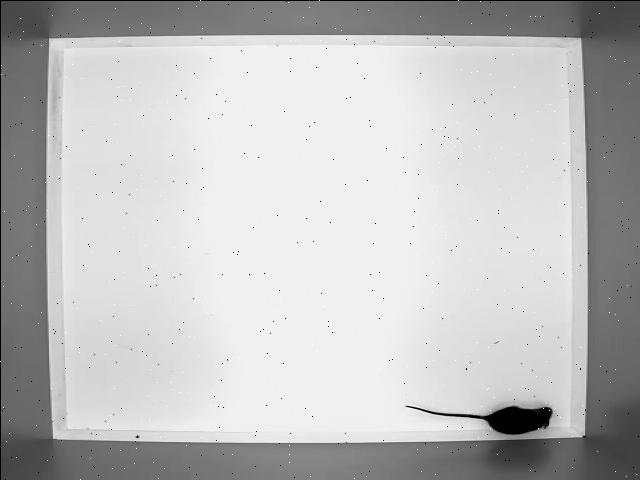Tikus: (402, 400, 556, 436)
